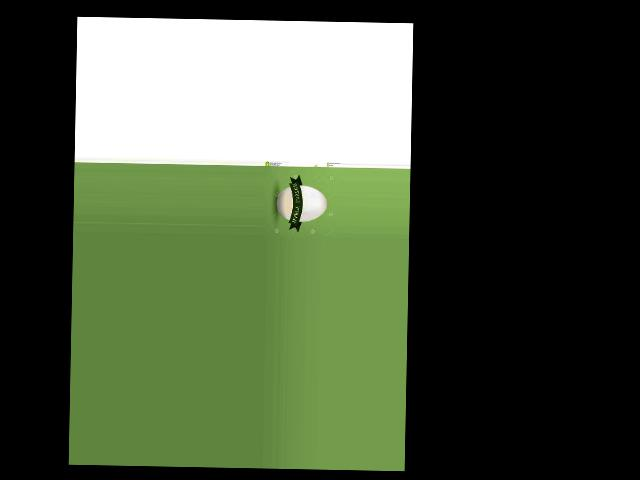egg: (276, 184, 327, 221)
